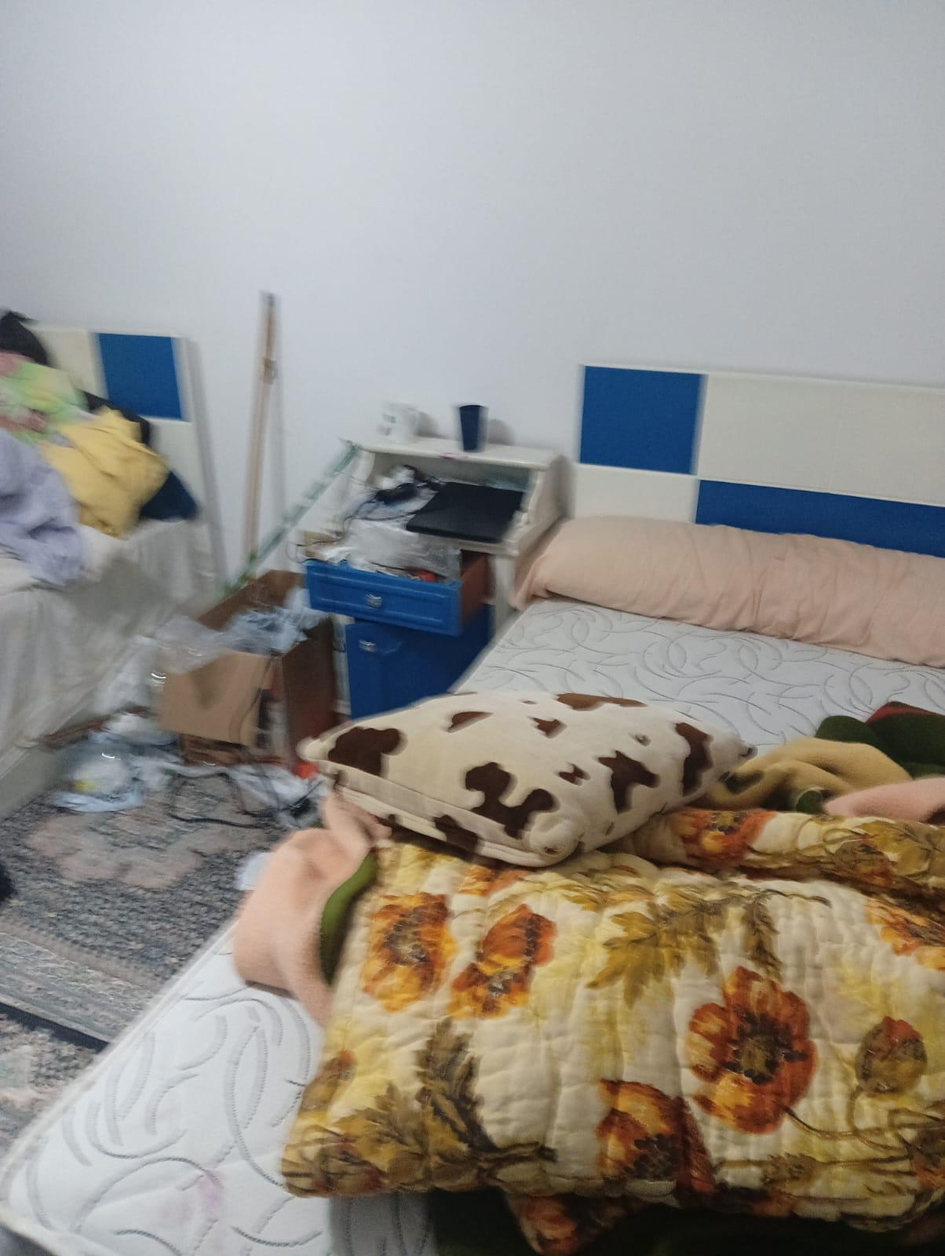cup: (380, 403, 419, 444), (458, 404, 485, 451)
